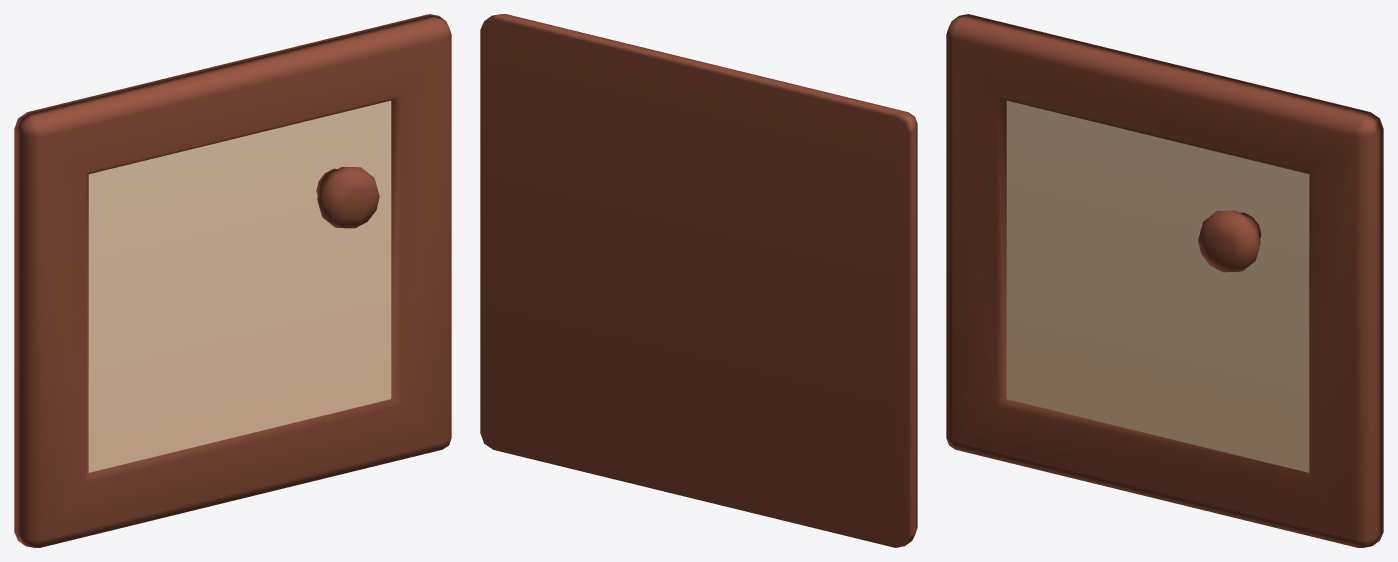
The model's file is Cabinet_001_door_001.fbx.
3 renders of one model, left to right at view 1: azimuth 30°, elevation 25°; view 2: azimuth 150°, elevation 25°; view 3: azimuth 330°, elevation 25°, orthographic.
Visible parts, largest first — view 1: Cabinet_001_door_001; view 2: Cabinet_001_door_001; view 3: Cabinet_001_door_001.
Part boxes in pixels (box(x1,y1,x2,y2)): Cabinet_001_door_001: box(14, 14, 451, 547); Cabinet_001_door_001: box(480, 14, 917, 547); Cabinet_001_door_001: box(946, 14, 1383, 547).
Size of the model in its own units: 49 by 7.98 by 47.03.
